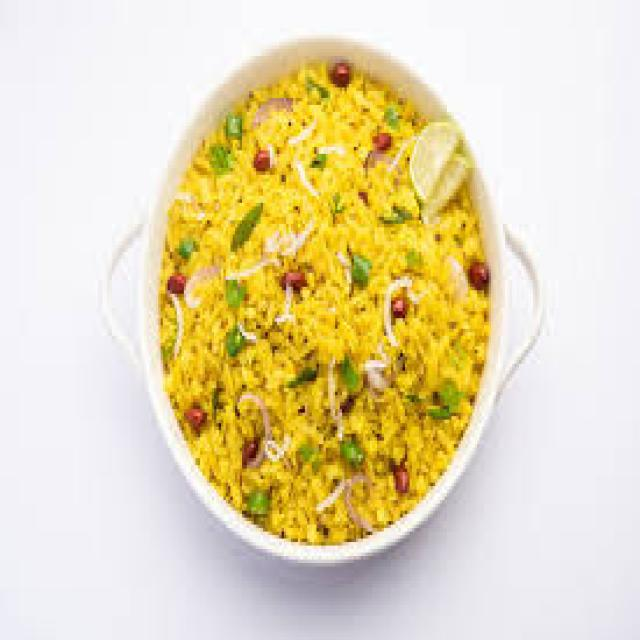POHA: (158, 63, 489, 542)
